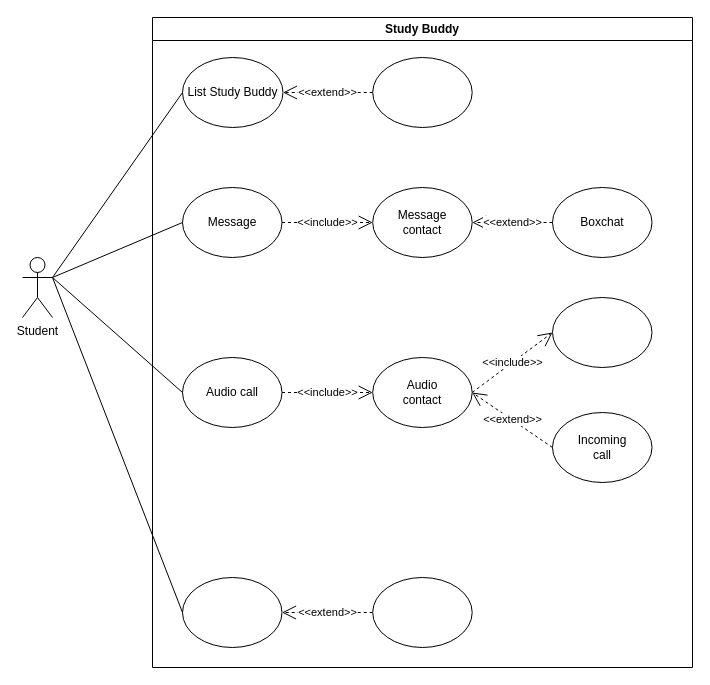
Some shapes in this 710 by 685 pixel diagram are drawn without their labels. The shapes that lost their labels are listed below. From the top down, each one's centre as x and y in pixels, then its label:
At (x=422, y=92): "Study Buddy Profile".
At (x=602, y=332): "Outgoing call".
At (x=232, y=612): "Profile".
At (x=422, y=612): "Edit Profile".
